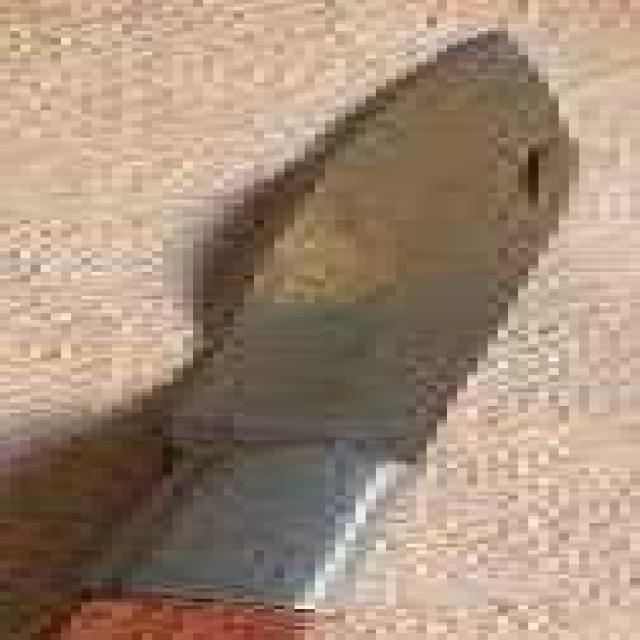knife: (76, 28, 618, 635)
